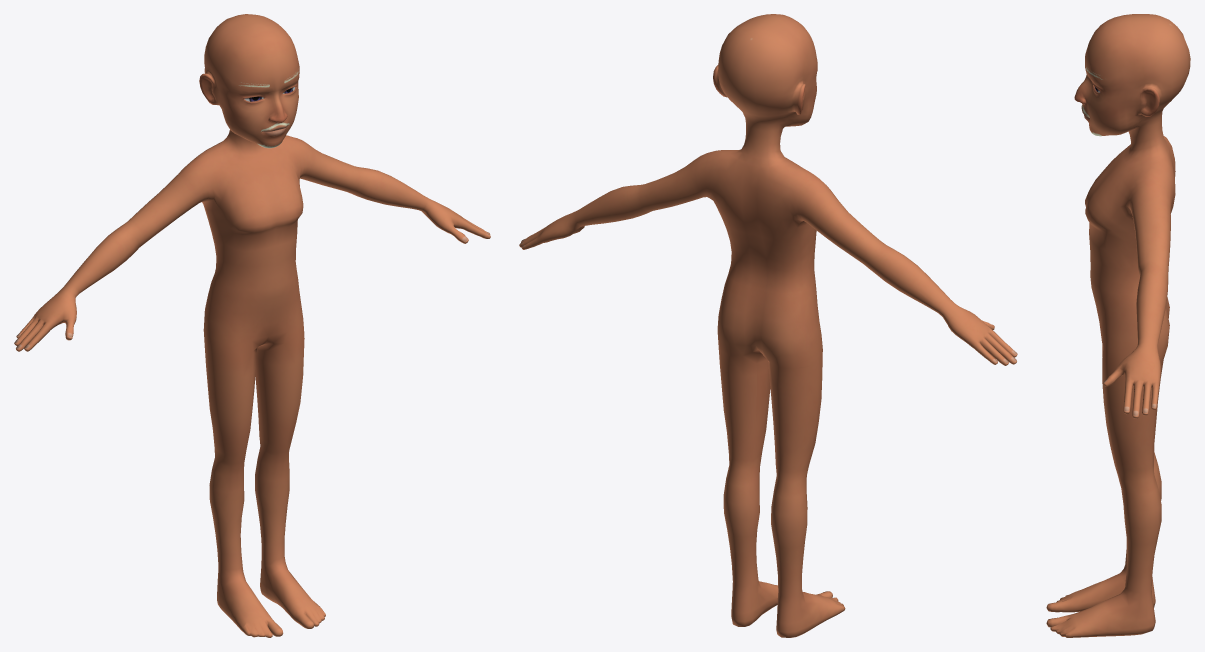
File: frame_0094.glb
The picture shows the model from 3 angles, left to right: view 1: azimuth 30°, elevation 25°; view 2: azimuth 150°, elevation 25°; view 3: azimuth 270°, elevation 25°; orthographic projection. The views are drawn at different scales.
Visible parts, largest first — view 1: frame_0094_head_geo; view 2: frame_0094_head_geo; view 3: frame_0094_head_geo.
Boxes of the visible parts, <box> form: frame_0094_head_geo: <box>14,14,490,637</box>; frame_0094_head_geo: <box>519,14,1017,637</box>; frame_0094_head_geo: <box>1046,14,1190,637</box>.
Bounding box in the file's own units: 1.28 × 1.5 × 0.3253.
Materials: 3 (3 with a texture image).
